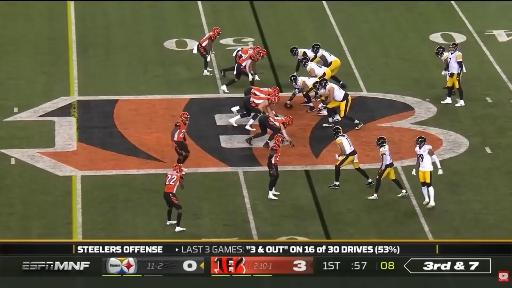Helmet: (312, 79, 328, 91), (332, 126, 342, 138), (376, 136, 386, 147), (416, 136, 426, 147), (435, 46, 445, 57), (319, 78, 329, 89), (179, 112, 190, 121), (284, 115, 293, 126), (274, 134, 283, 145), (312, 43, 321, 54), (270, 94, 280, 103), (289, 74, 298, 84), (250, 53, 260, 62), (173, 164, 182, 173), (300, 57, 309, 66), (312, 81, 320, 91), (270, 86, 280, 94), (290, 46, 298, 56), (449, 43, 458, 51), (212, 27, 221, 35), (259, 50, 267, 58), (253, 46, 261, 52), (253, 46, 261, 50), (256, 55, 261, 61), (212, 34, 217, 40)
Jersey: (415, 145, 433, 170), (250, 87, 272, 107), (325, 83, 348, 101), (336, 134, 354, 155), (165, 171, 181, 193), (448, 51, 462, 73), (307, 62, 328, 76), (294, 77, 318, 89), (239, 51, 253, 71), (234, 48, 252, 63), (173, 121, 186, 141), (380, 145, 392, 166), (318, 50, 338, 62), (268, 116, 286, 129), (269, 144, 280, 164), (200, 33, 216, 46), (298, 49, 314, 59), (442, 52, 449, 63)
Player: (329, 126, 374, 188), (367, 136, 407, 199), (313, 79, 363, 129), (229, 87, 279, 130), (415, 136, 442, 207), (246, 115, 294, 148), (311, 43, 346, 88), (221, 51, 259, 92), (442, 43, 465, 106), (164, 164, 185, 231), (221, 46, 266, 77), (193, 27, 221, 75), (285, 75, 317, 112), (171, 112, 190, 165), (268, 135, 283, 199), (290, 46, 314, 74), (300, 58, 331, 79), (253, 49, 267, 80), (435, 46, 448, 66)
